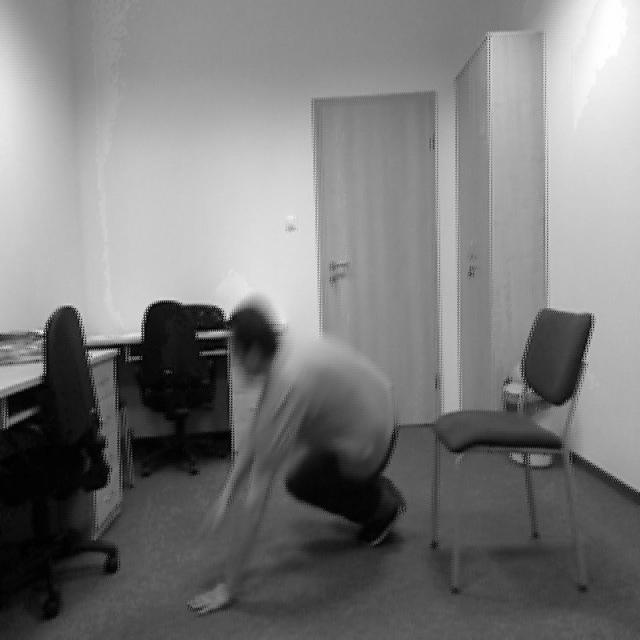sit: (234, 296, 433, 542)
